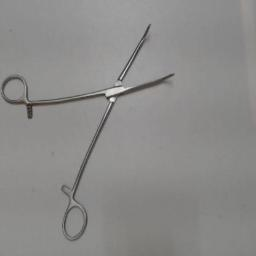Lahey Forceps: (0, 18, 178, 246)
